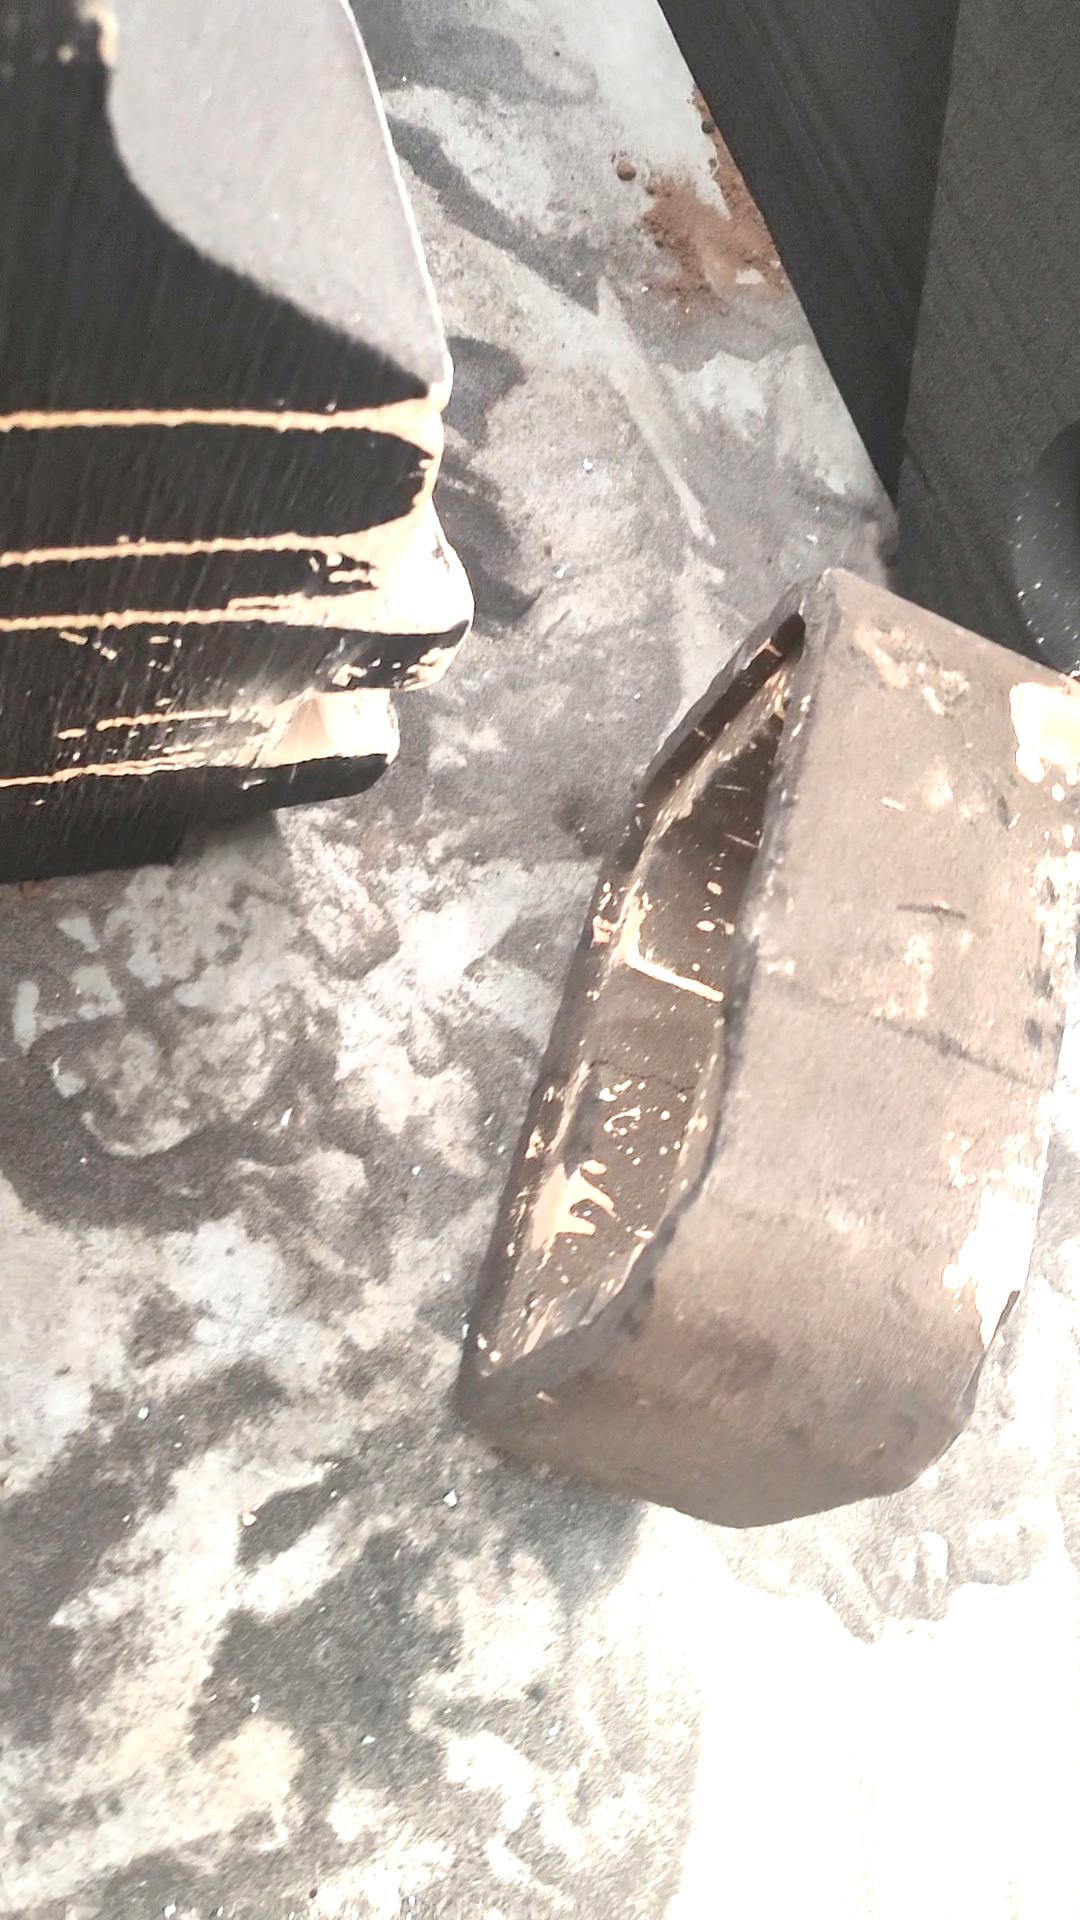pouring hole: (1011, 415, 1080, 675)
